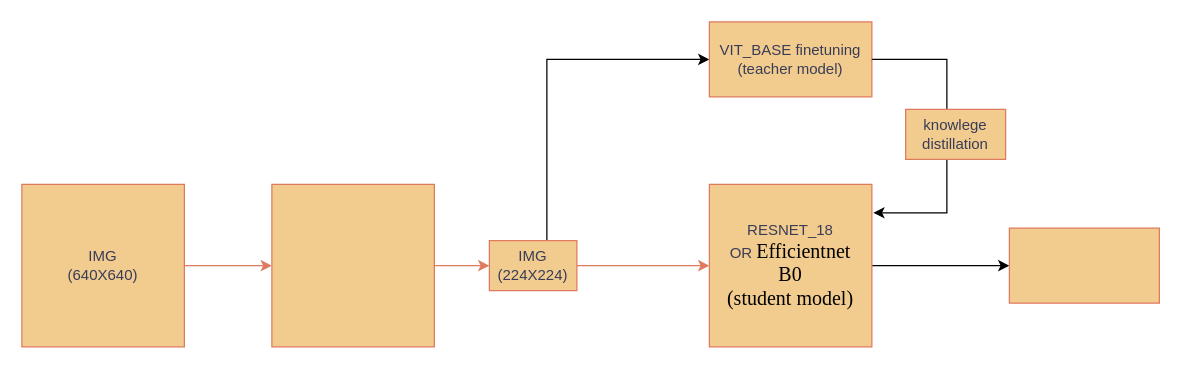
Image size: 1181x369. Some labels were removed from this diagram. The shapes that lost their labels are listed below. From the top down, each one's centre as x and y in pixels, then its label:
pixel 352 265: YOLO_V5s
pixel 1083 265: OUTPUT (BBOX + CLASS)
